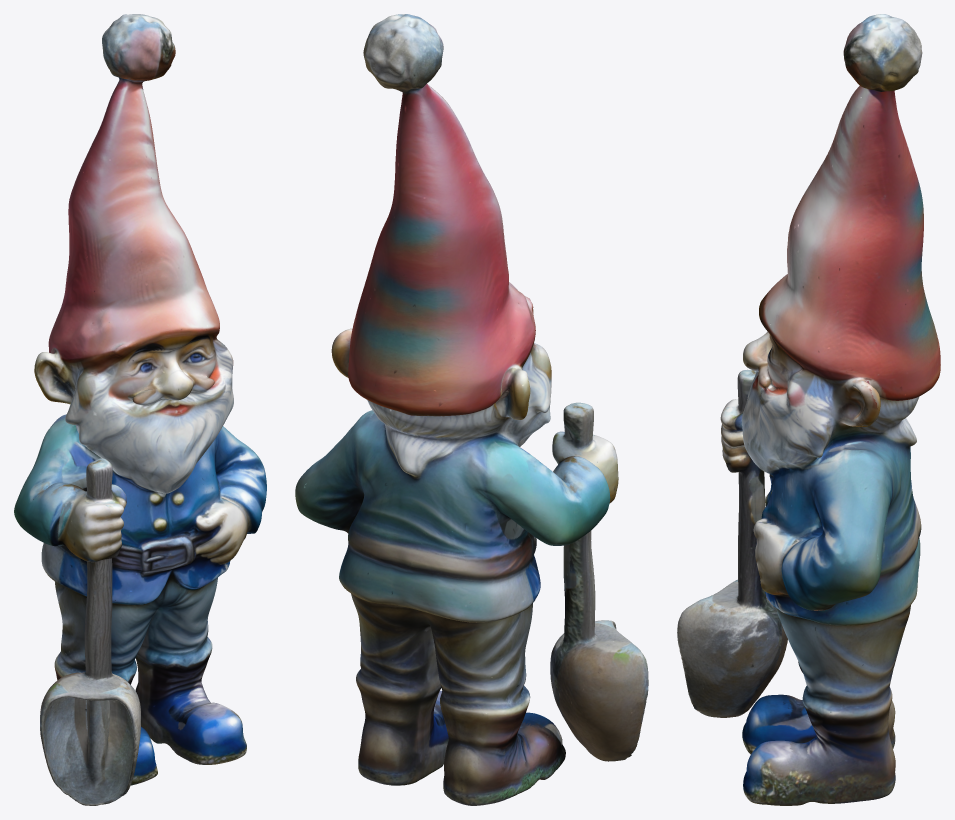
File: Garden_Gnome_1129042018_texture.fbx
3 renders of one model, left to right at view 1: azimuth 30°, elevation 25°; view 2: azimuth 150°, elevation 25°; view 3: azimuth 270°, elevation 25°, orthographic. The views are drawn at different scales.
Visible parts, largest first — view 1: Mesh_0; view 2: Mesh_0; view 3: Mesh_0.
Part boxes in pixels (x1,y1,x2,y2): Mesh_0: [14, 14, 266, 805]; Mesh_0: [295, 14, 648, 805]; Mesh_0: [677, 14, 940, 805].
Size of the model in its own units: 79.71 by 200 by 62.57.
1 material, 1 textured.
